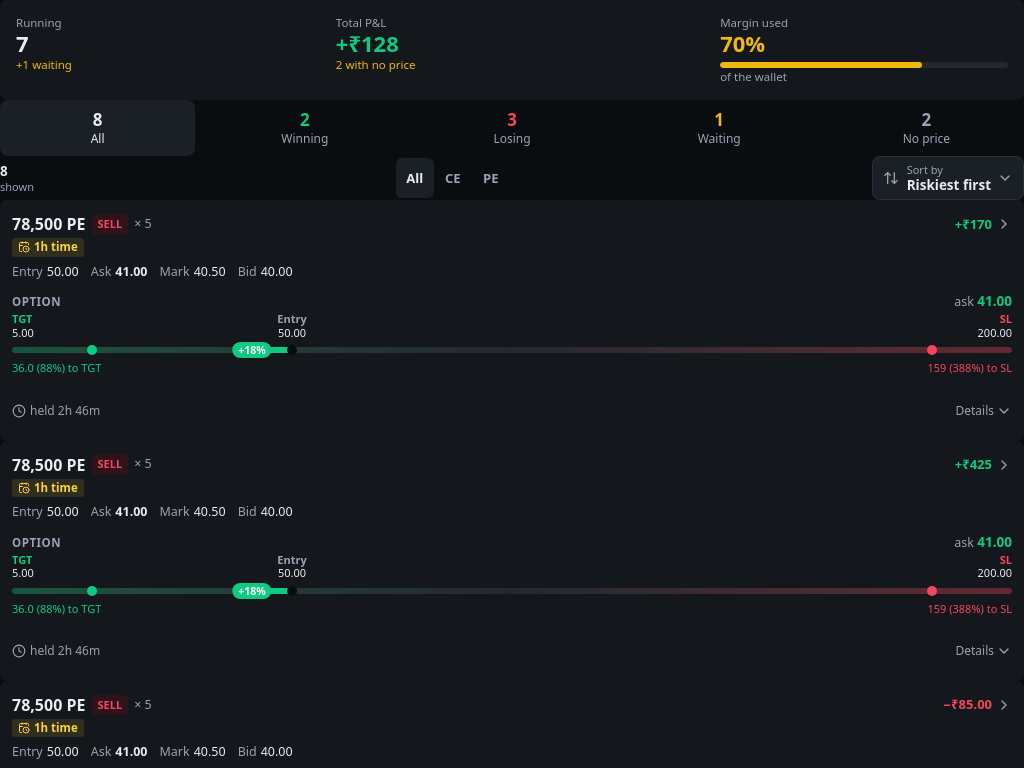
Test: PositionsScreen › [critical] the tiles add up to All (24 Nov 2026): a position with no close price is counted under No price, not left out
The width and height of the screenshot is (1024, 768).
Check: the element named "positions summary" shows "2 with no price", box [16,16,1008,84]
Click the button "2 No price" at (926, 128), box [829,100,1023,156]
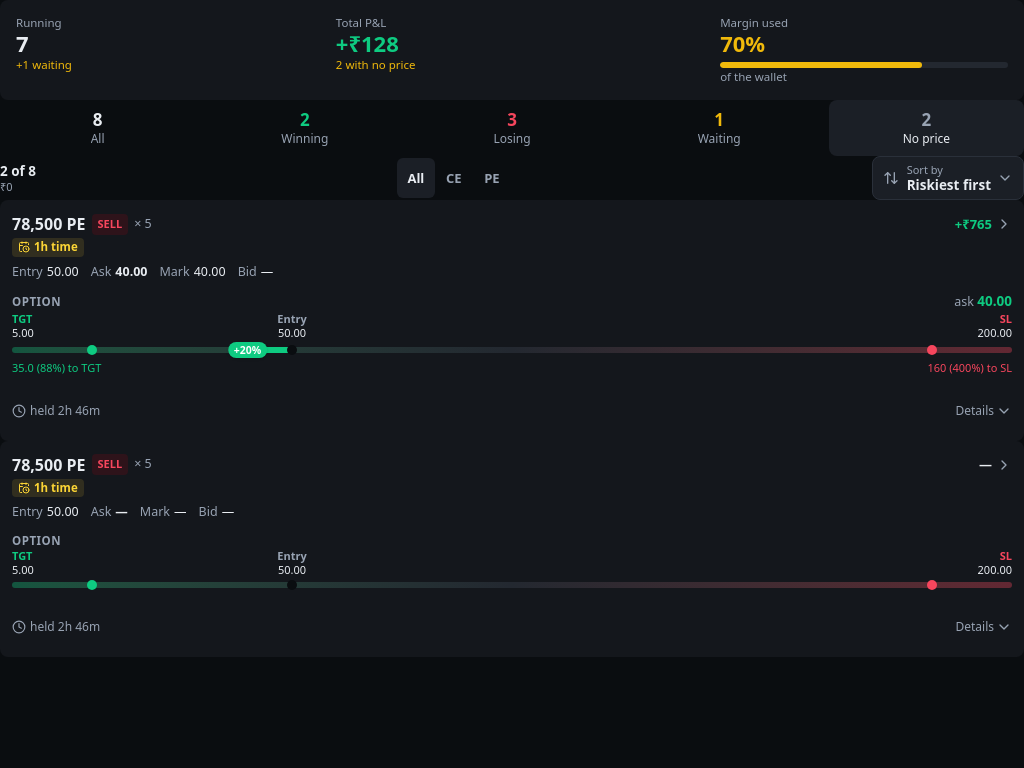
Check: the number of buttons named "what happened" is 2, box [12,202,1012,246]; [12,443,1012,487]
